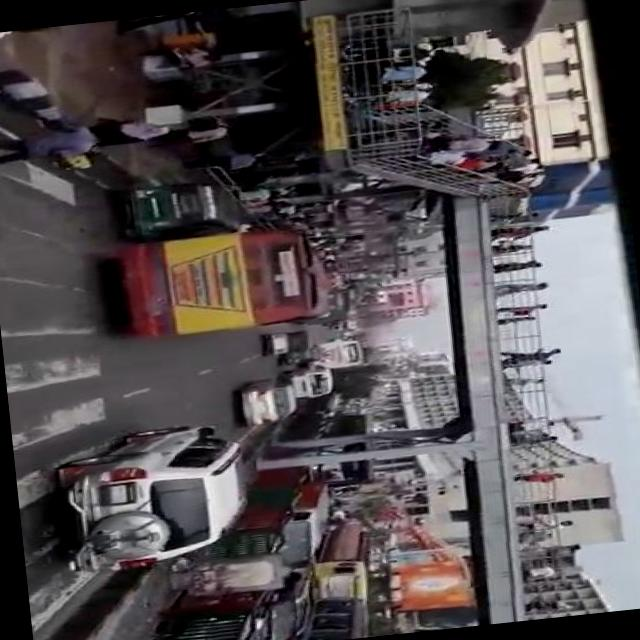bus: (118, 222, 328, 342), (298, 408, 381, 489), (286, 592, 363, 640), (308, 284, 357, 322), (311, 336, 364, 368)
car: (55, 416, 256, 574), (206, 567, 325, 640), (241, 374, 303, 424)
motorcycle: (122, 174, 246, 242), (266, 326, 316, 356)
truck: (248, 480, 338, 572), (292, 514, 378, 609), (290, 363, 336, 399)
